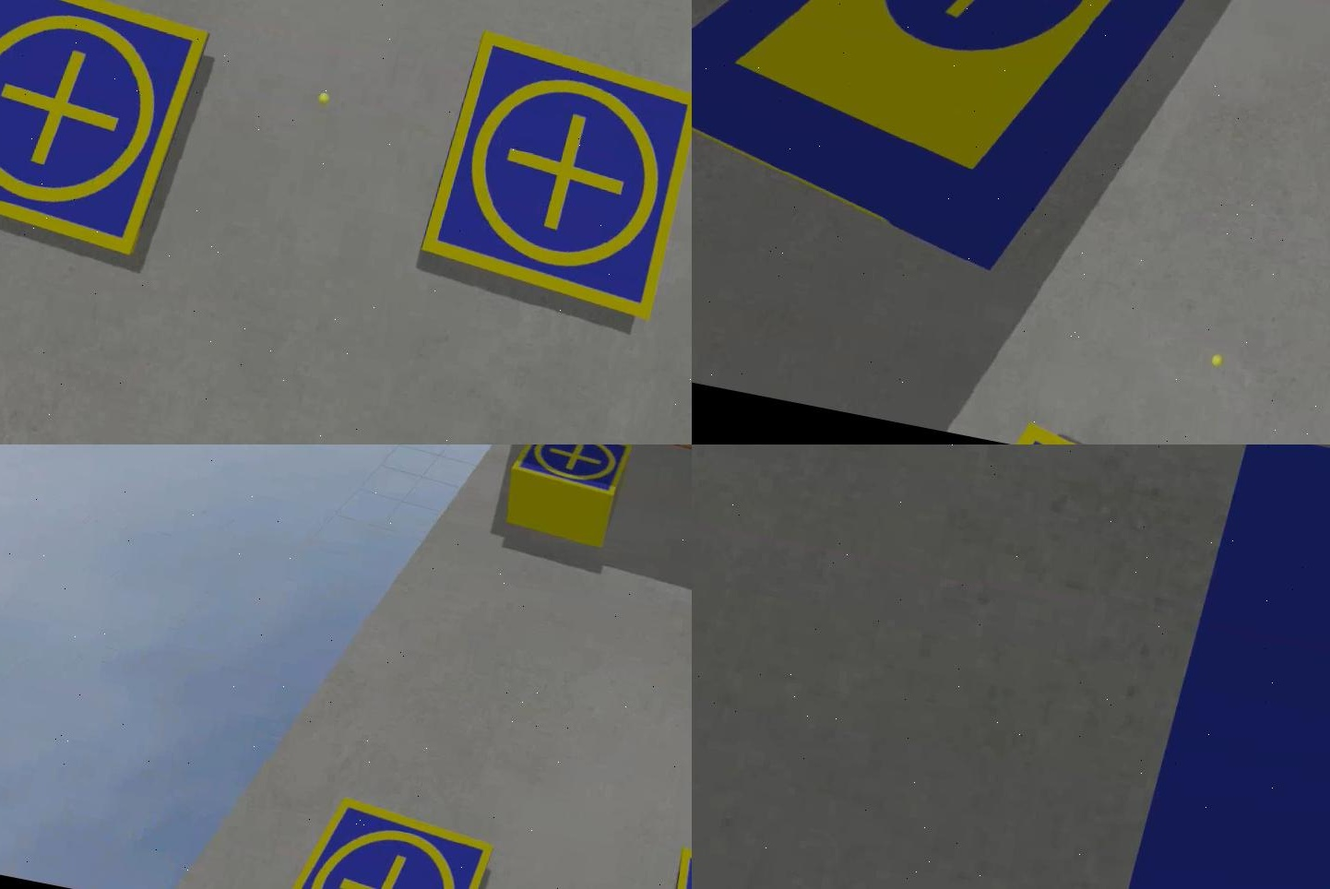large_base: (690, 1, 1270, 310), (1055, 445, 1328, 889)
small_base: (411, 25, 690, 328), (0, 1, 215, 266), (273, 787, 496, 889), (505, 445, 631, 499)
